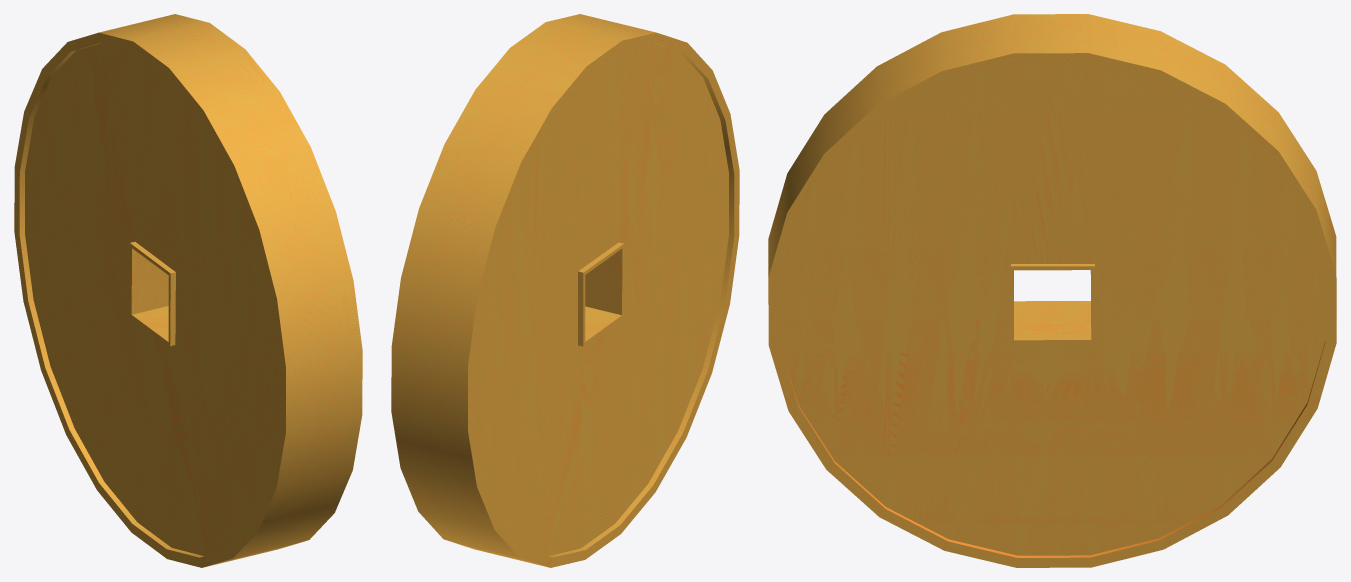
File: coin.dae
3 views of the same model, side by side, from view 1: azimuth 30°, elevation 25°; view 2: azimuth 150°, elevation 25°; view 3: azimuth 270°, elevation 25° (orthographic). The views are drawn at different scales.
Parts seen in each view (by area): view 1: group_0 (×4); view 2: group_0 (×4); view 3: group_0 (×4).
Boxes of the visible parts, box(x1,y1,x2,y2) form: group_0 (×4): box(14, 14, 362, 567); group_0 (×4): box(391, 14, 739, 567); group_0 (×4): box(768, 14, 1336, 567).
Size of the model in its own units: 17.24 by 106 by 106.
